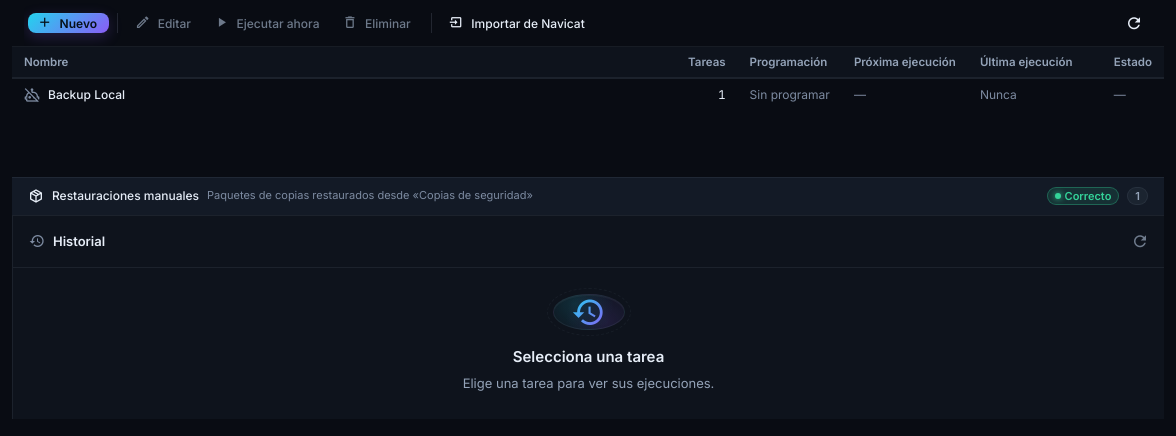
AutomationView › lists restores without a job under «Restauraciones manuales» and shows their history
The width and height of the screenshot is (1176, 436).
Click the button with test id "jobs-manual-rollbacks".
click(126, 196)  # box [12,176,1164,214]
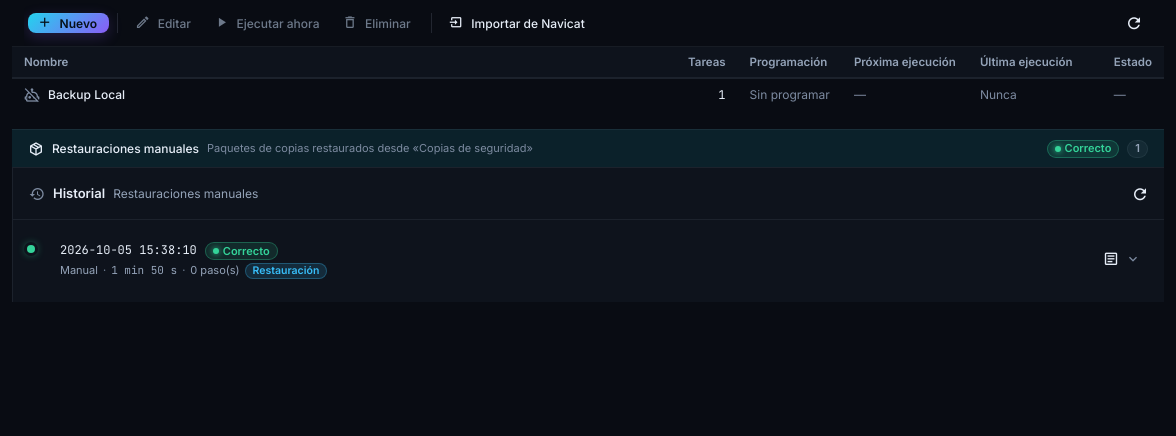
Expected: the button with test id "jobs-run" is disabled, [205,13,331,33]
Expected: the element with test id "run-history" shows "Restauraciones manuales", [113,186,258,201]
Expected: the text "Restauración" is shown, [245,263,327,279]
